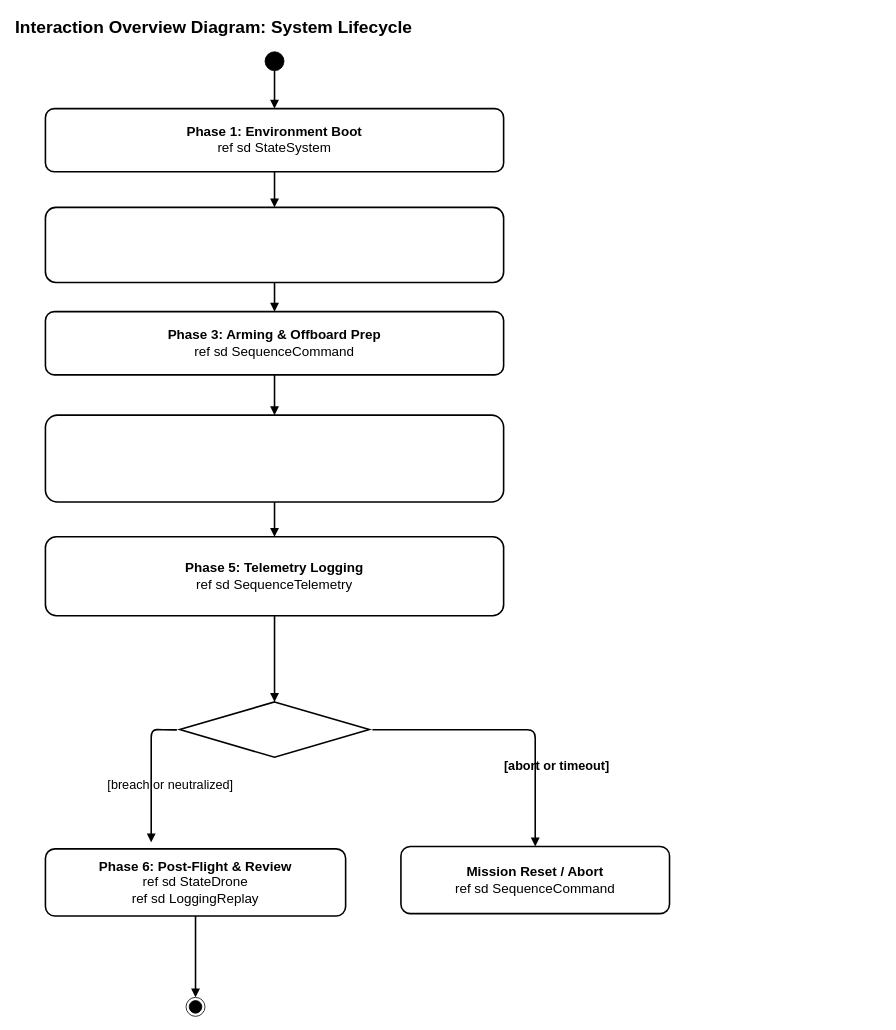
Image size: 896x1030. Some labels were removed from this diagram. Each missing label, with the centre of its shape:
"Duel Termination Condition met?" goes at pixel 274 729.
"Phase 2: Base Placement & Setup ref sd BaseSpawnSensor" goes at pixel 274 244.
"Phase 4: Swarm Duel Execution ref sd ActivitySensorFusion" goes at pixel 274 458.
